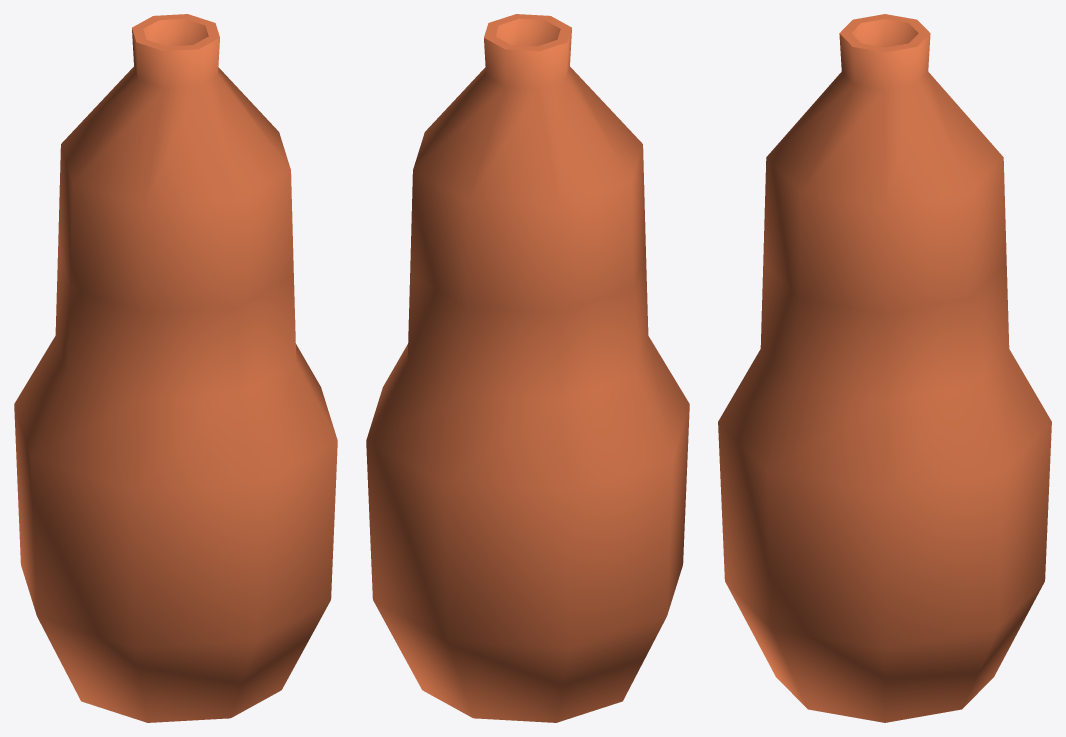
Rendered from prop_bottle_2.glb.
3 renders of one model, left to right at view 1: azimuth 30°, elevation 25°; view 2: azimuth 150°, elevation 25°; view 3: azimuth 270°, elevation 25°, orthographic.
Parts seen in each view (by area): view 1: Props with out snow_Bottle_2_0; view 2: Props with out snow_Bottle_2_0; view 3: Props with out snow_Bottle_2_0.
Boxes of the visible parts, box(x1,y1,x2,y2) form: Props with out snow_Bottle_2_0: box(14, 14, 337, 722); Props with out snow_Bottle_2_0: box(366, 14, 689, 722); Props with out snow_Bottle_2_0: box(718, 14, 1051, 722).
Bounding box in the file's own units: 0.326 × 0.6931 × 0.326.
